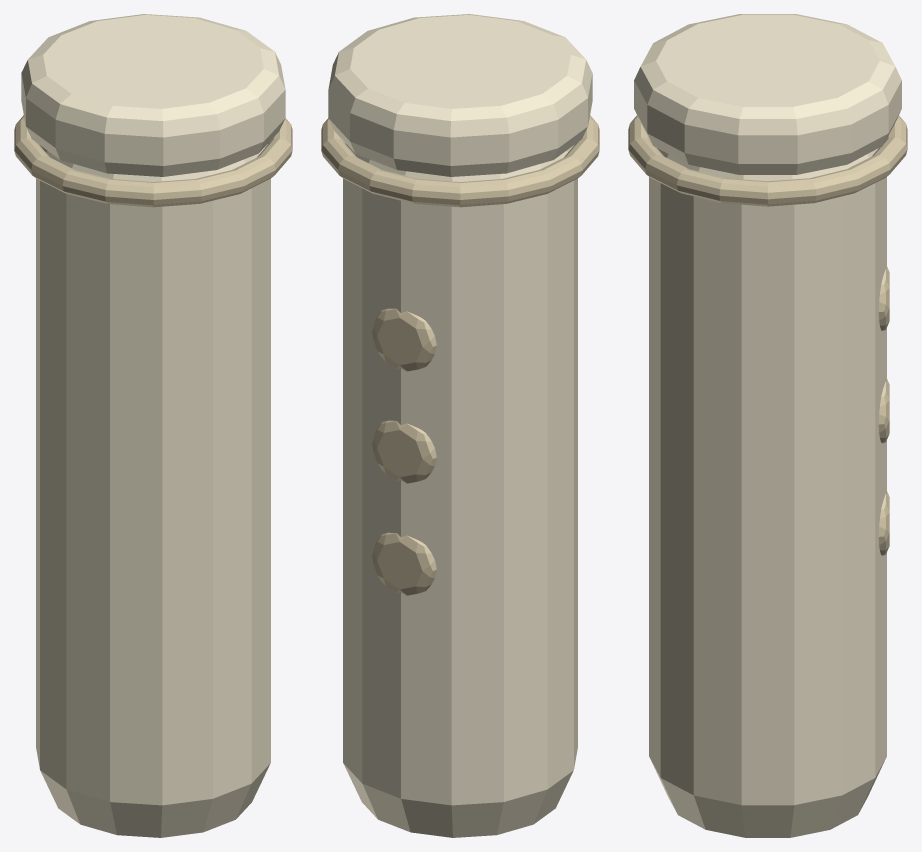
Rendered from falcons_whistle.glb.
The picture shows the model from 3 angles, left to right: view 1: azimuth 30°, elevation 25°; view 2: azimuth 150°, elevation 25°; view 3: azimuth 270°, elevation 25°; orthographic projection.
Visible parts, largest first — view 1: Body, Mouth, Ridge; view 2: Body, Mouth, Ridge, Hole1, Hole0, Hole2; view 3: Body, Mouth, Ridge, Hole1, Hole2, Hole0.
Boxes of the visible parts, x1=… form: Body: x1=36, y1=144, x2=270, y2=837; Mouth: x1=21, y1=14, x2=285, y2=176; Ridge: x1=14, y1=115, x2=292, y2=207; Body: x1=343, y1=144, x2=577, y2=837; Mouth: x1=328, y1=14, x2=592, y2=176; Ridge: x1=321, y1=115, x2=599, y2=207; Hole1: x1=372, y1=420, x2=436, y2=483; Hole0: x1=372, y1=308, x2=436, y2=371; Hole2: x1=372, y1=532, x2=436, y2=595; Body: x1=649, y1=148, x2=886, y2=837; Mouth: x1=634, y1=14, x2=901, y2=174; Ridge: x1=628, y1=115, x2=907, y2=206; Hole1: x1=878, y1=379, x2=889, y2=443; Hole2: x1=878, y1=491, x2=889, y2=555; Hole0: x1=878, y1=267, x2=889, y2=330.
Bounding box in the file's own units: 0.0571 × 0.1675 × 0.0563.
